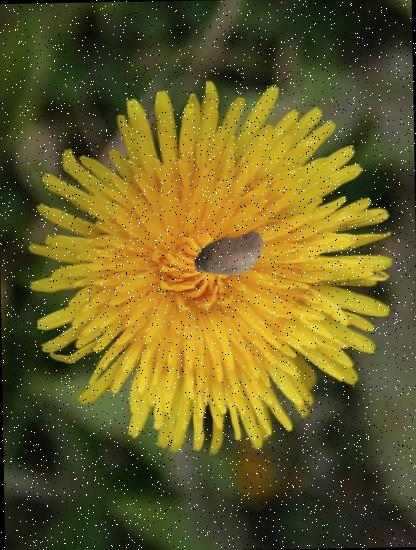Potato: (191, 218, 267, 294)
